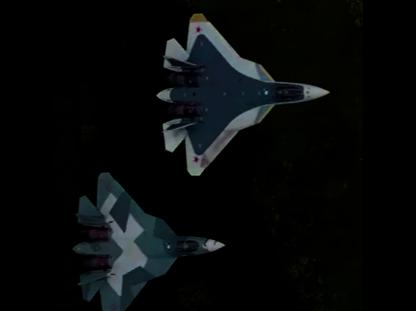SR71: (155, 13, 330, 175), (71, 169, 228, 309)
